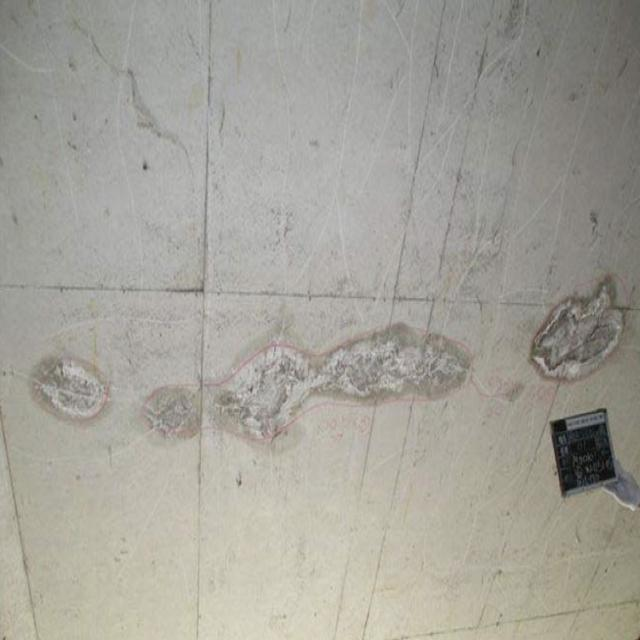freelime: (34, 318, 467, 448), (511, 257, 633, 387)
